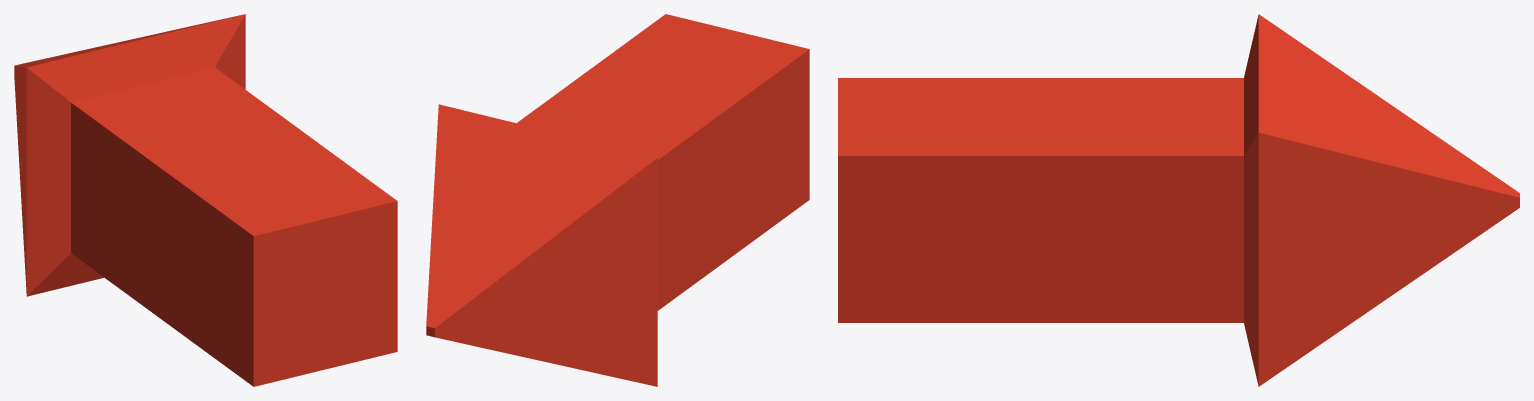
Rendered from waypoint.fbx.
3 views of the same model, side by side, from view 1: azimuth 30°, elevation 25°; view 2: azimuth 150°, elevation 25°; view 3: azimuth 270°, elevation 25° (orthographic). The views are drawn at different scales.
Visible parts, largest first — view 1: Arrow; view 2: Arrow; view 3: Arrow.
Part boxes in pixels (x1,y1,x2,y2): Arrow: [14, 14, 397, 386]; Arrow: [426, 14, 809, 386]; Arrow: [838, 14, 1519, 386].
Bounding box in the file's own units: 304 × 304 × 739.
